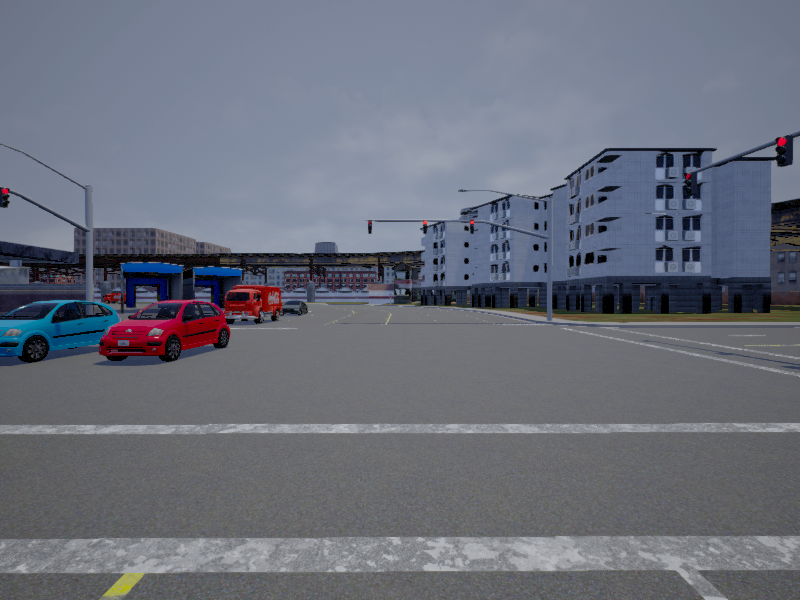Benign: (1, 299, 125, 364), (102, 303, 231, 358), (227, 287, 277, 320), (282, 302, 308, 316)
